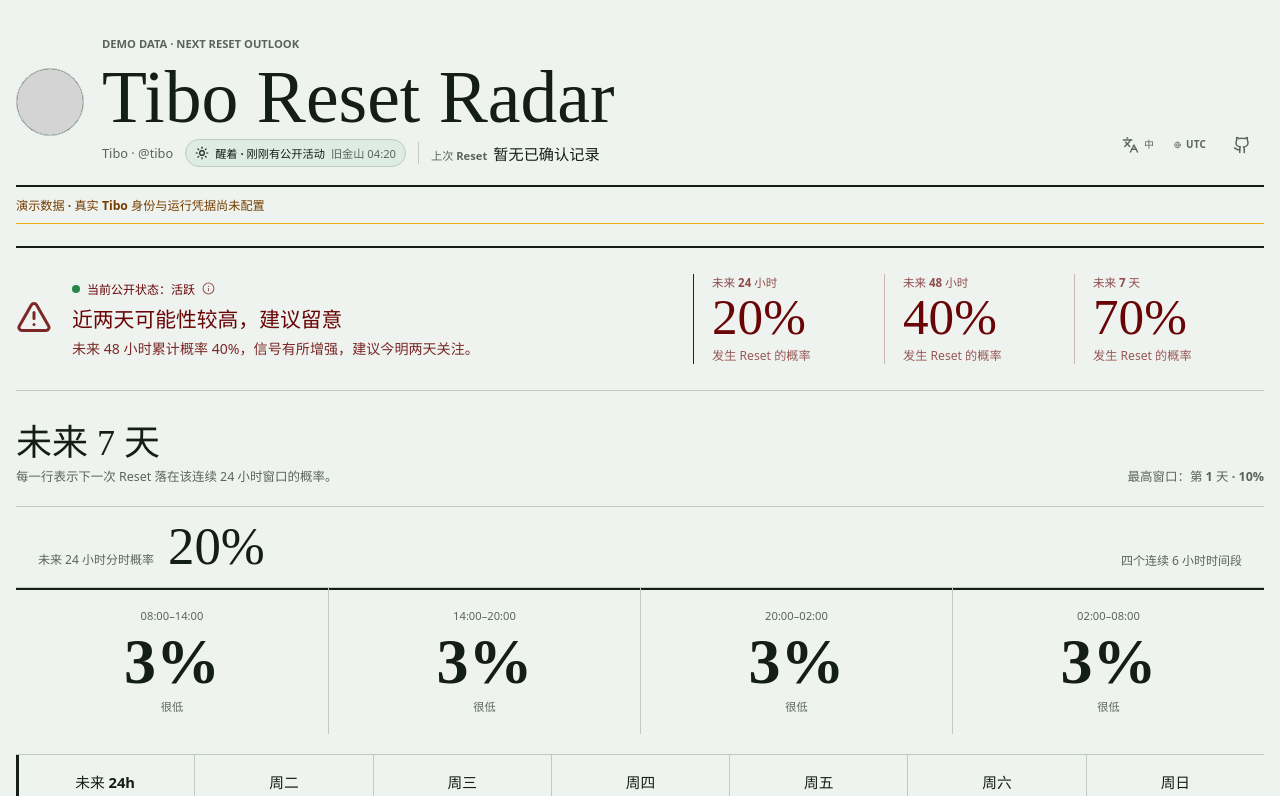
Test: App › shows the identity and three headline probabilities
Check: the heading "Tibo Reset Radar" is shown, box 102,63 -> 614,132
Check: the text "上次 Reset" is shown, box 431,148 -> 487,163
Click the heading "当前公开状态：活跃" at (144, 289), box 72,280 -> 215,298
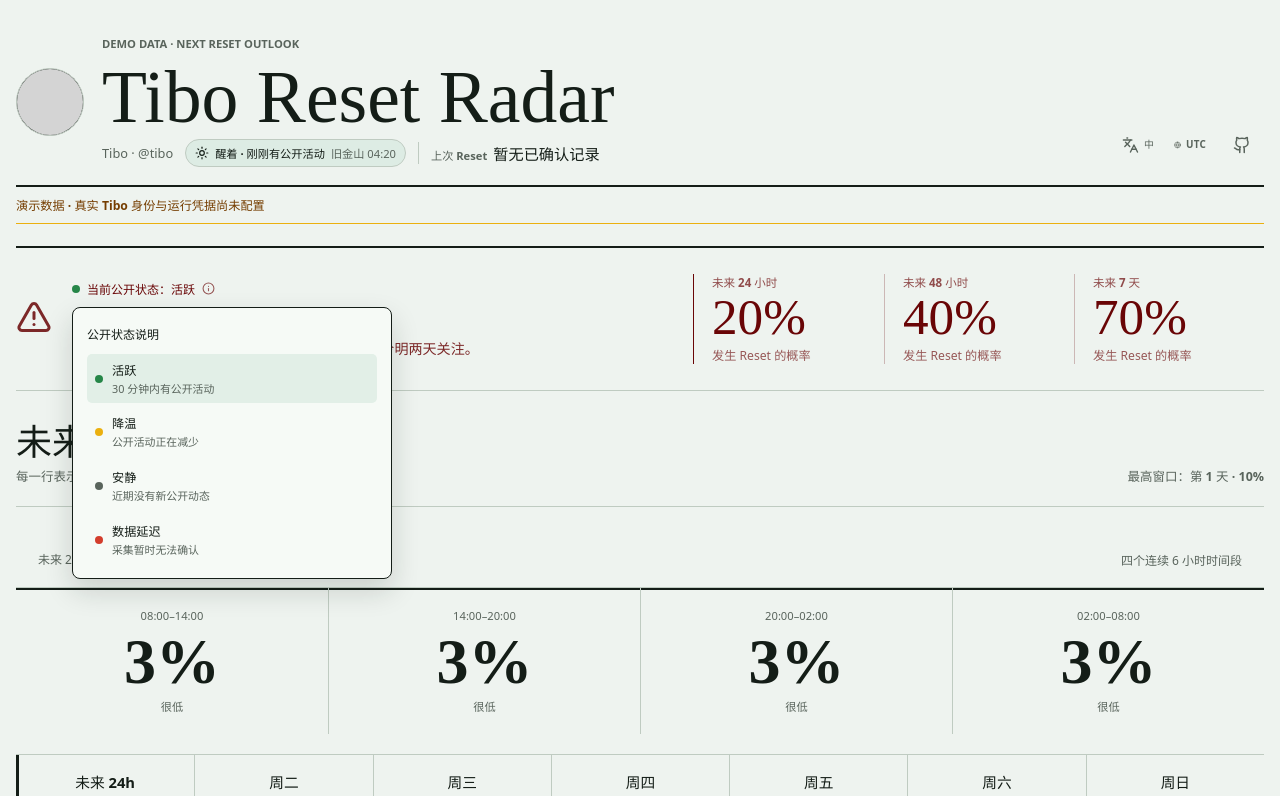
Check: the text "30 分钟内有公开活动" is shown, box 112,381 -> 214,396
Check: the text "公开活动正在减少" is shown, box 112,434 -> 199,449
Check: the text "近期没有新公开动态" is shown, box 112,488 -> 210,503
